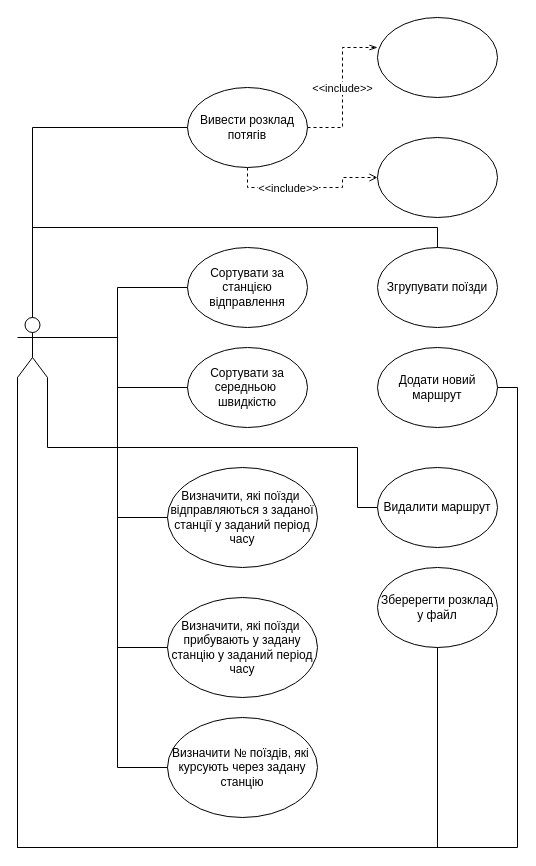
This 536x866 diagram has some shape labels left out. The shapes that lost their labels are listed below. From the top down, each one's centre as x and y in pixels, then its label:
(437,57): Взяти розклад із системного файлу
(437,177): Взяти розклад із свого файлу
(32,347): Actor
